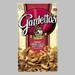grozi_3: (16, 3, 58, 72)
